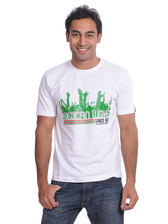clothoes: (31, 60, 140, 185)
